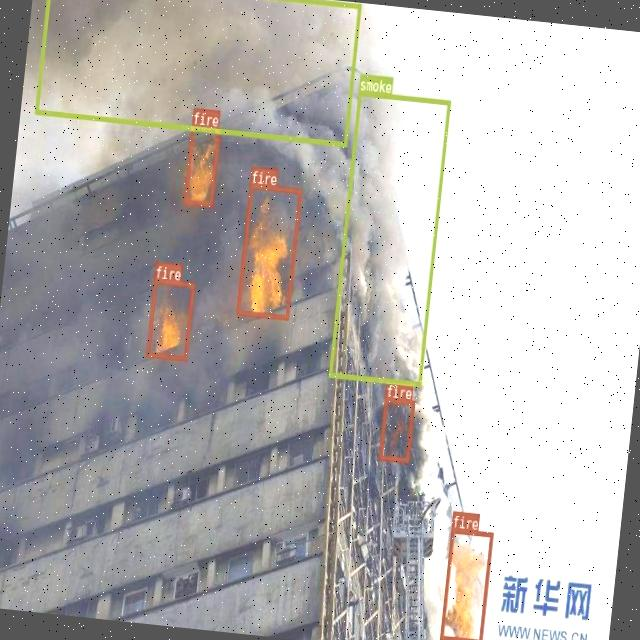fire: (236, 182, 302, 319), (439, 527, 492, 640), (145, 277, 194, 360), (182, 124, 220, 205), (378, 396, 414, 462)
smoke: (33, 0, 360, 145), (328, 90, 450, 386)
